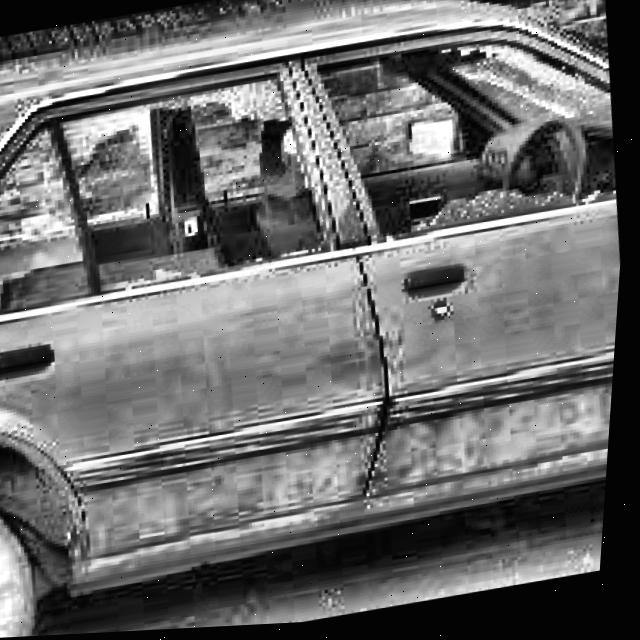glass_shatter: (308, 20, 628, 247), (53, 74, 341, 300)
